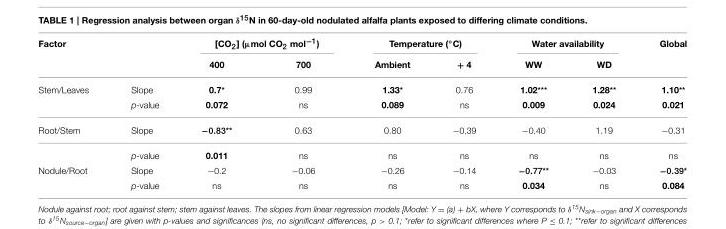table: (37, 37, 686, 189)
table column: (260, 37, 346, 189), (346, 37, 430, 189), (179, 37, 260, 189), (496, 37, 569, 189), (37, 37, 109, 189), (109, 37, 179, 189), (569, 37, 636, 189), (430, 37, 496, 189), (636, 37, 686, 189)
table column header: (37, 37, 686, 77)
table row: (37, 117, 686, 142), (37, 54, 686, 77), (37, 77, 686, 97), (37, 97, 686, 117), (37, 142, 686, 162), (37, 37, 686, 54), (37, 162, 686, 177), (37, 177, 686, 189)
table spanning cell: (37, 117, 109, 162), (37, 37, 109, 77), (37, 77, 109, 117), (179, 37, 346, 54), (346, 37, 496, 54), (496, 37, 636, 54), (636, 37, 686, 77), (37, 162, 109, 189)
